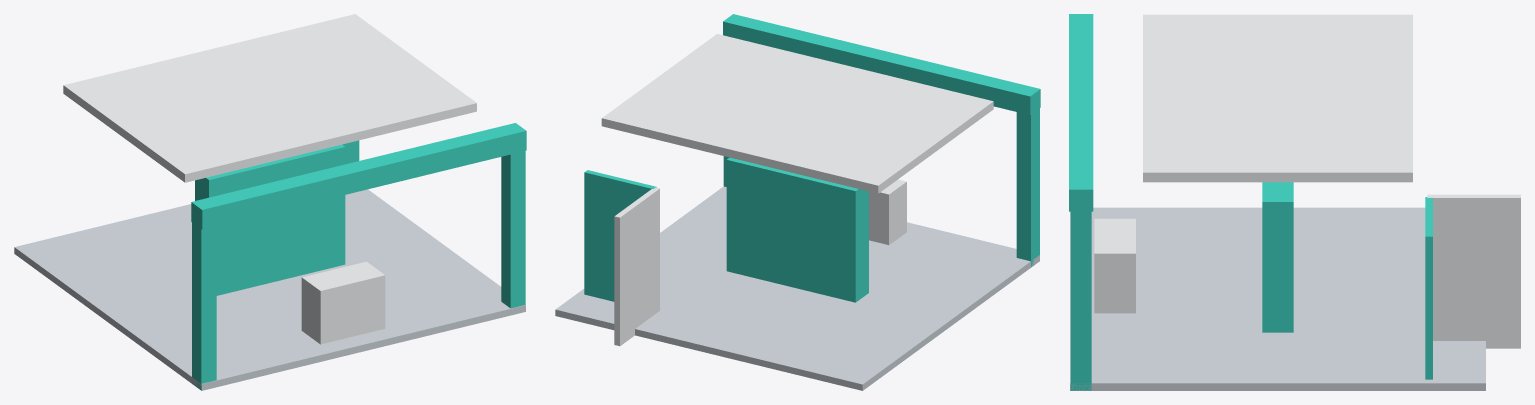
3 views of the same model, side by side, from view 1: azimuth 30°, elevation 25°; view 2: azimuth 150°, elevation 25°; view 3: azimuth 270°, elevation 25° (orthographic). The views are drawn at different scales.
Visible parts, largest first — view 1: Exhibition Booth Concept; view 2: Exhibition Booth Concept; view 3: Exhibition Booth Concept.
Part boxes in pixels (x1=…): Exhibition Booth Concept: x1=14, y1=14, x2=526, y2=390; Exhibition Booth Concept: x1=555, y1=14, x2=1040, y2=390; Exhibition Booth Concept: x1=1069, y1=14, x2=1520, y2=390.
Size of the model in its own units: 6 by 3.34 by 6.52.
